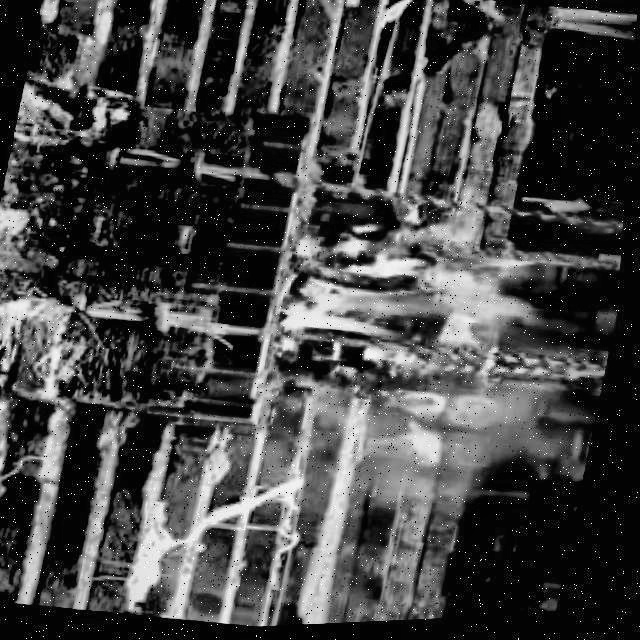Fire: (277, 220, 530, 381)
